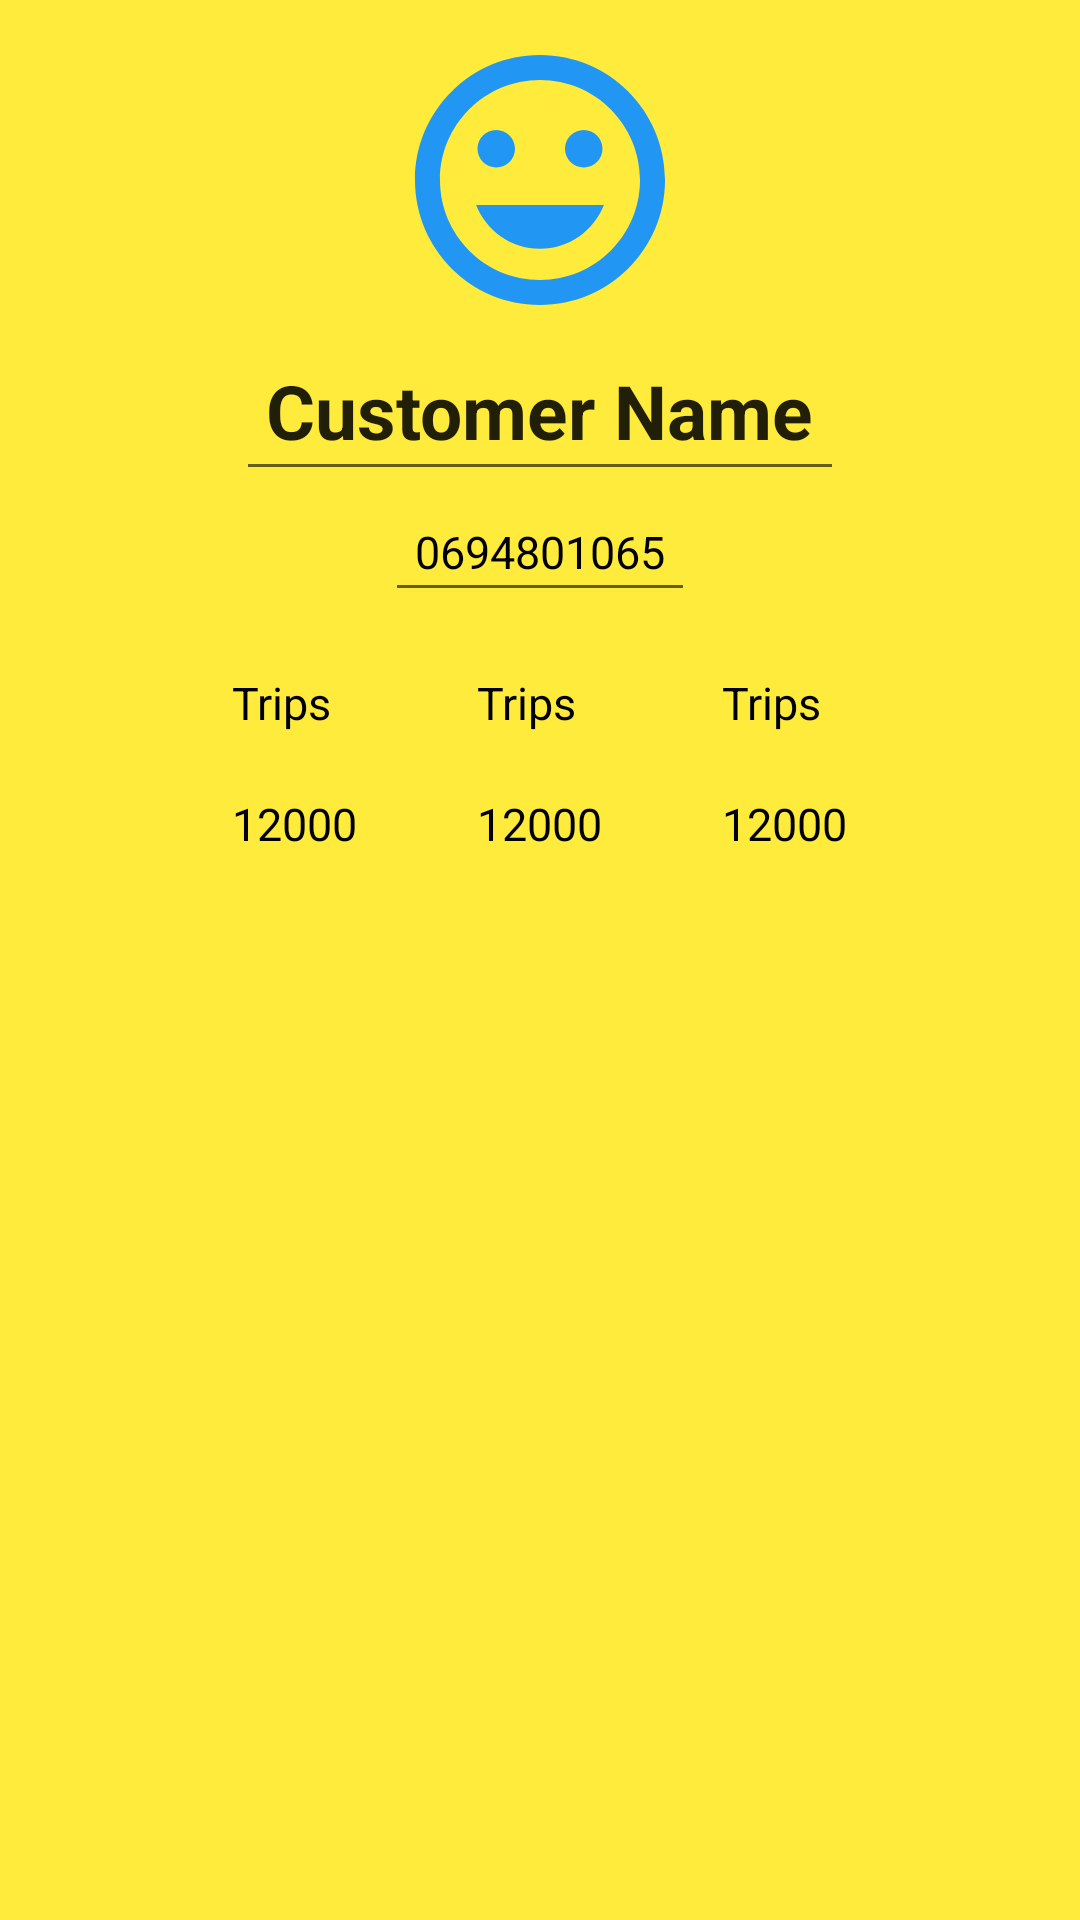

Where to tap for icons on this 1080*1920 app screen, as [x,y]:
tag faces: [540,180]
